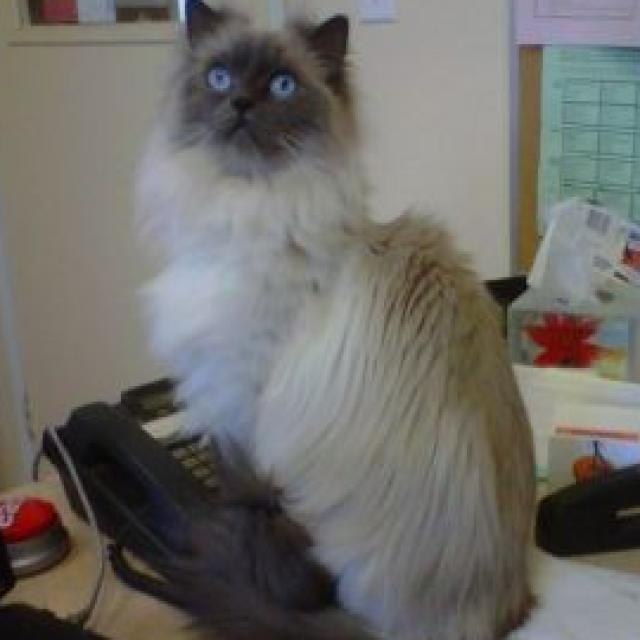Ragdoll: (130, 0, 543, 640)
